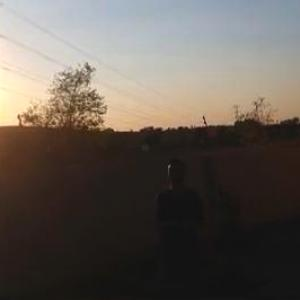follow: (149, 154, 210, 299)
